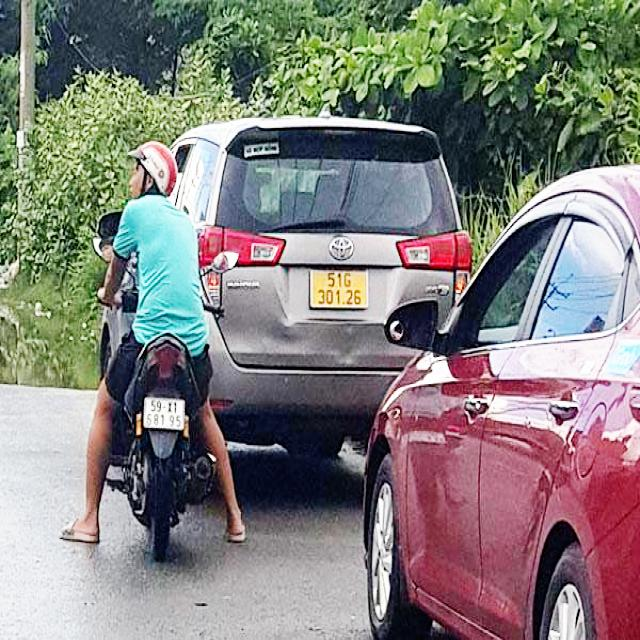license_plate: (312, 270, 369, 309), (145, 398, 186, 431)
